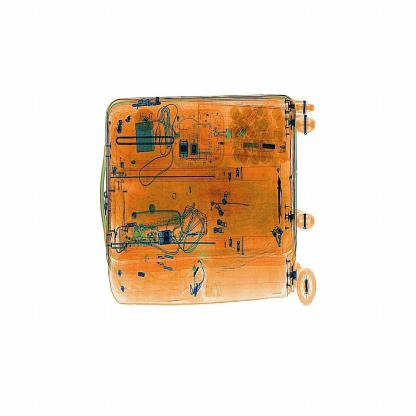knife: (271, 166, 294, 239)
